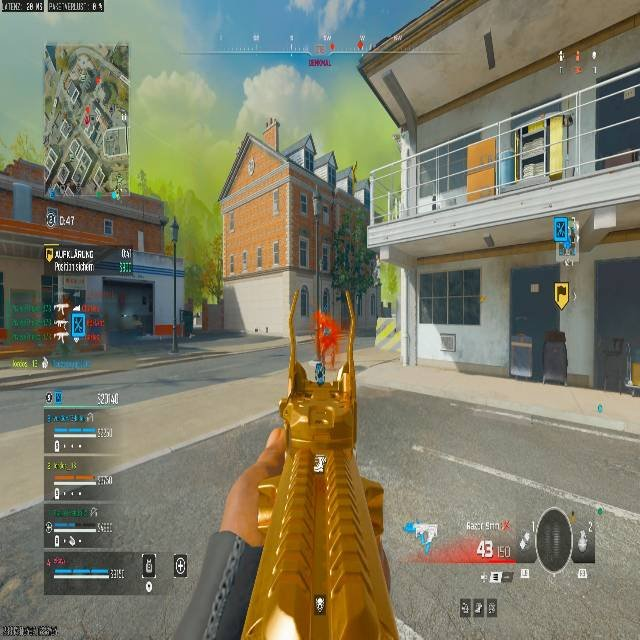player: (309, 310, 342, 387), (55, 290, 89, 350)
